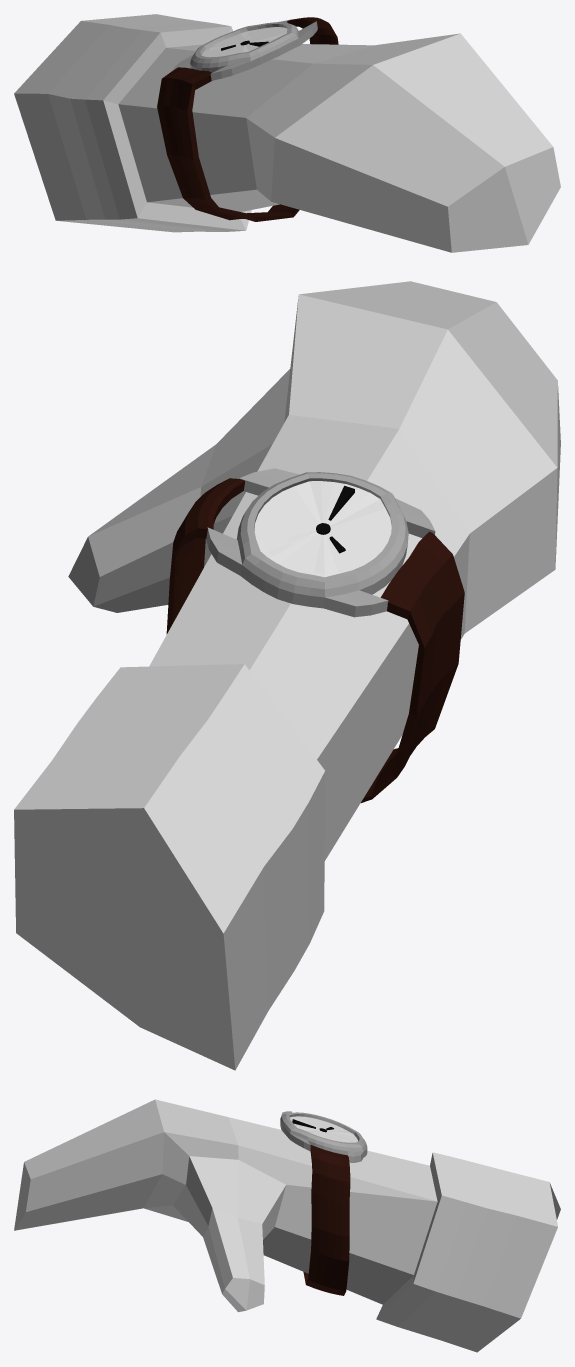
File: WatchImplementTest.fbx
The picture shows the model from 3 angles, top to bottom: view 1: azimuth 30°, elevation 25°; view 2: azimuth 150°, elevation 25°; view 3: azimuth 270°, elevation 25°; orthographic projection. The views are drawn at different scales.
Visible parts, largest first — view 1: Cube.001; view 2: Cube.001; view 3: Cube.001.
Part boxes in pixels (x1,y1,x2,y2): Cube.001: (14,14,560,252); Cube.001: (14,281,560,1070); Cube.001: (14,1099,560,1352).
Size of the model in its own units: 109 by 111 by 215.
